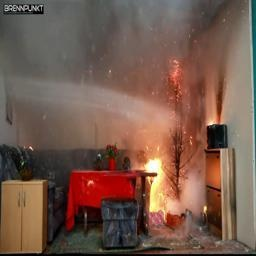fire: (139, 144, 178, 213)
